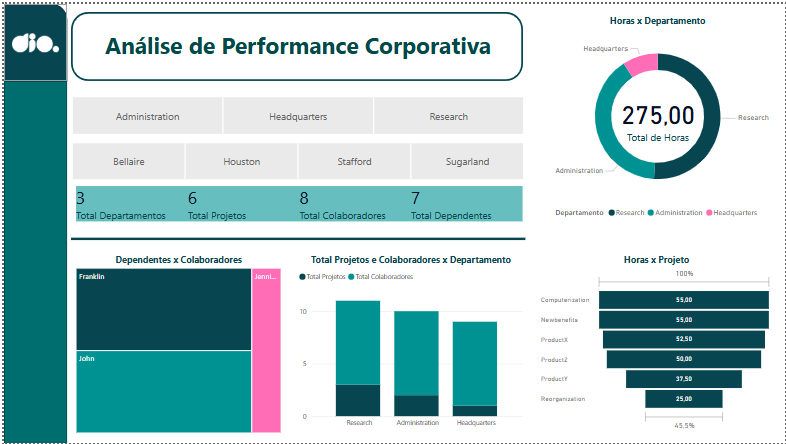

Layout of this report page (visuals, bound fields, positions):
{"tool":"powerbi","page":{"name":"Análise Corporativa","canvas":[1280,720],"ordinal":0},"visuals":[{"type":"donutChart","title":"Horas x Departamento","fields":{"Category":["azure_company departament.Dname"],"Y":["azure_company works_on.Hours"]},"box":[875.6,16.7,392.3,343.6],"z":0},{"type":"card","fields":{"Values":["azure_company works_on.Hours"]},"box":[989.7,141,164.1,93.6],"z":1000},{"type":"treemap","title":"Dependentes x Colaboradores","fields":{"Group":["azure_company employee.Fname"],"Values":["azure_company dependent.Dependent_name"]},"box":[112.8,409,346.2,300],"z":2000},{"type":"columnChart","title":"Total Projetos e Colaboradores x Departamento","fields":{"Y":["azure_company project.Pname","azure_company employee.Fname"],"Category":["azure_company departament.Dname"]},"box":[478.2,409,376.9,296.2],"z":3000},{"type":"funnel","title":"Horas x Projeto","fields":{"Y":["azure_company works_on.Hours"],"Category":["azure_company project.Pname"]},"box":[875.6,409,388.5,296.2],"z":4000},{"type":"slicer","fields":{"Values":["azure_company departament.Dname"]},"box":[87.2,146.2,788.5,74.4],"z":5000},{"type":"slicer","fields":{"Values":["azure_company project.Plocation"]},"box":[87.2,220.5,788.5,73.1],"z":6000},{"type":"multiRowCard","fields":{"Values":["azure_company departament.Dname","azure_company project.Pname","azure_company employee.Fname","azure_company dependent.Dependent_name"]},"box":[112.8,293.6,742.3,73.1],"z":7000},{"type":"shape","box":[0,0,103.7,720.4],"z":8000},{"type":"shape","box":[0,0,103.7,126.9],"z":9000},{"type":"shape","box":[110.3,360.3,744.9,48.7],"z":10000},{"type":"image","box":[8.2,13.1,86.9,100],"z":11000},{"type":"textbox","box":[160.7,37.7,677,75.4],"z":12000},{"type":"shape","box":[109.8,13.1,741,113.1],"z":13000}]}

Visuals, with their boxes in screenshot pixels (x1, y1, x2, y2), scaled from the page's 1280x720 canvas onto the 786x444 screenshot:
"Horas x Departamento" donutChart: select_region(538, 10, 779, 222)
card - azure_company works_on.Hours: select_region(608, 87, 709, 145)
"Dependentes x Colaboradores" treemap: select_region(69, 252, 282, 437)
"Total Projetos e Colaboradores x Departamento" columnChart: select_region(294, 252, 525, 435)
"Horas x Projeto" funnel: select_region(538, 252, 776, 435)
slicer - azure_company departament.Dname: select_region(54, 90, 538, 136)
slicer - azure_company project.Plocation: select_region(54, 136, 538, 181)
multiRowCard - azure_company departament.Dname x azure_company project.Pname: select_region(69, 181, 525, 226)
shape: select_region(0, 0, 64, 443)
shape: select_region(0, 0, 64, 78)
shape: select_region(68, 222, 525, 252)
image: select_region(5, 8, 58, 70)
textbox: select_region(99, 23, 514, 70)
shape: select_region(67, 8, 522, 78)
